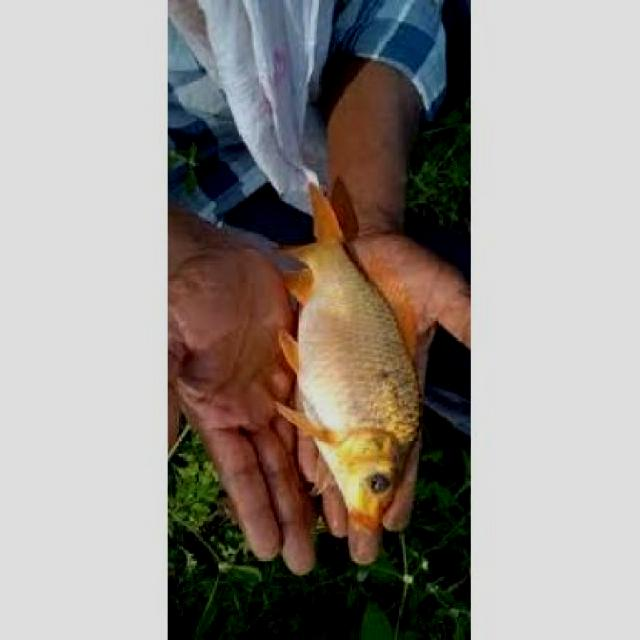ikan-mas: (287, 174, 424, 522)
